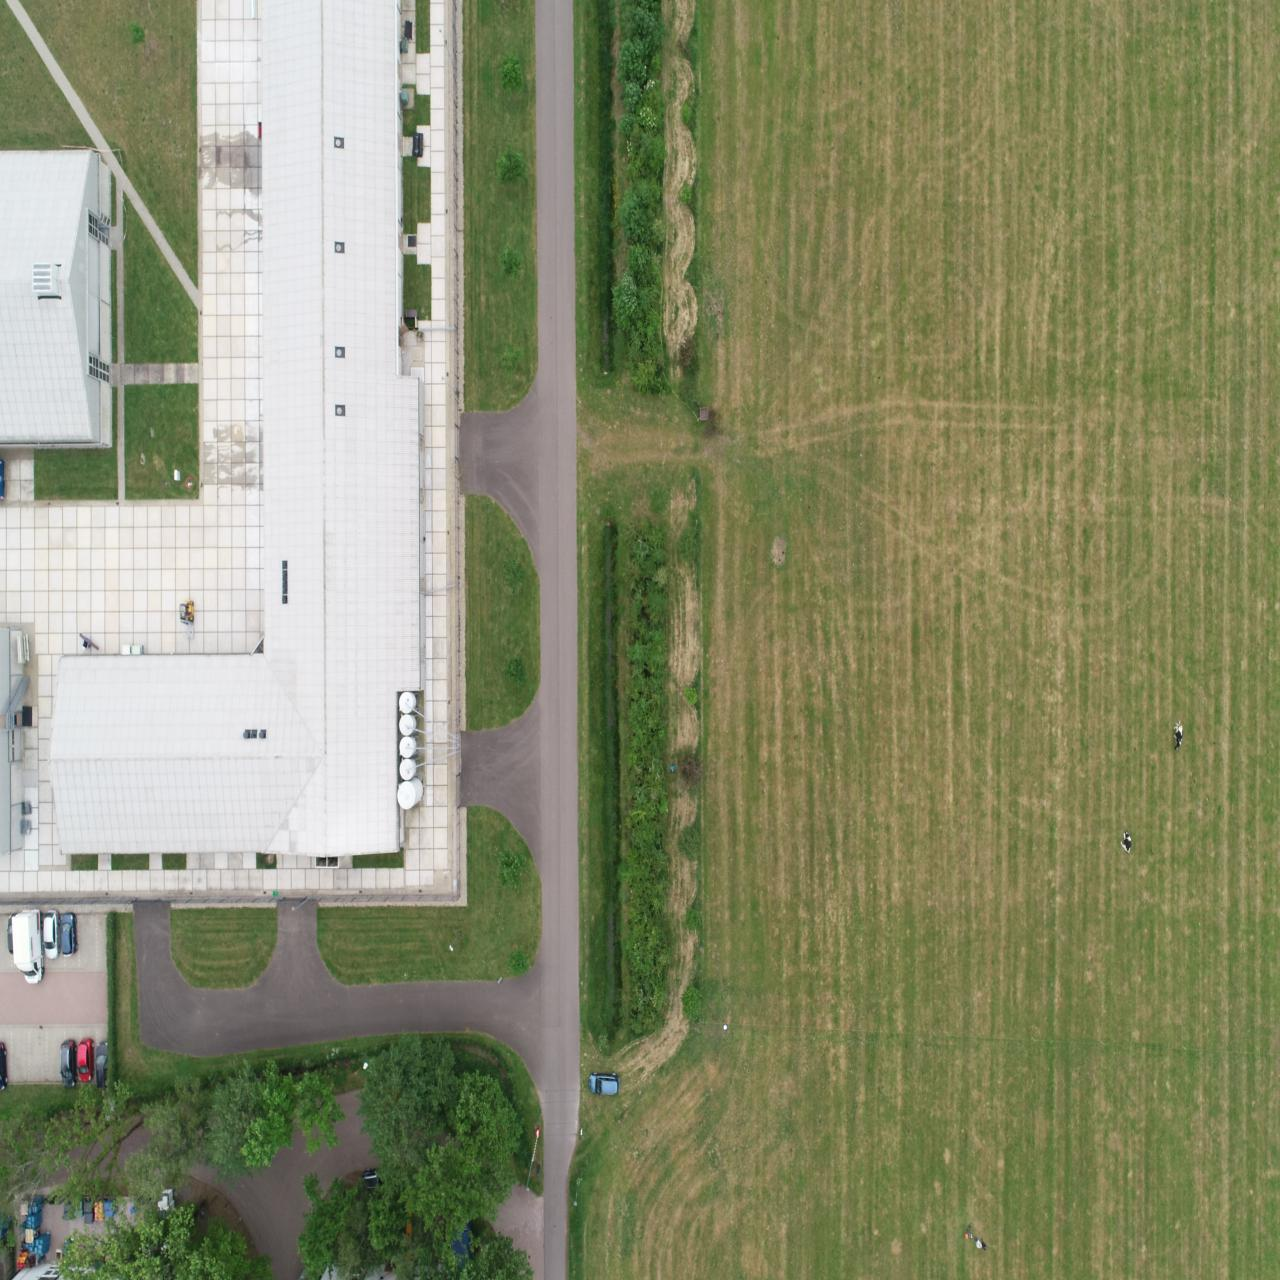cow: (1172, 716, 1184, 753), (1119, 826, 1132, 855)
